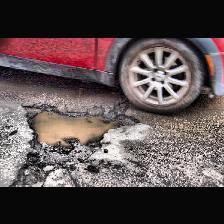pothole: (20, 102, 140, 148)
